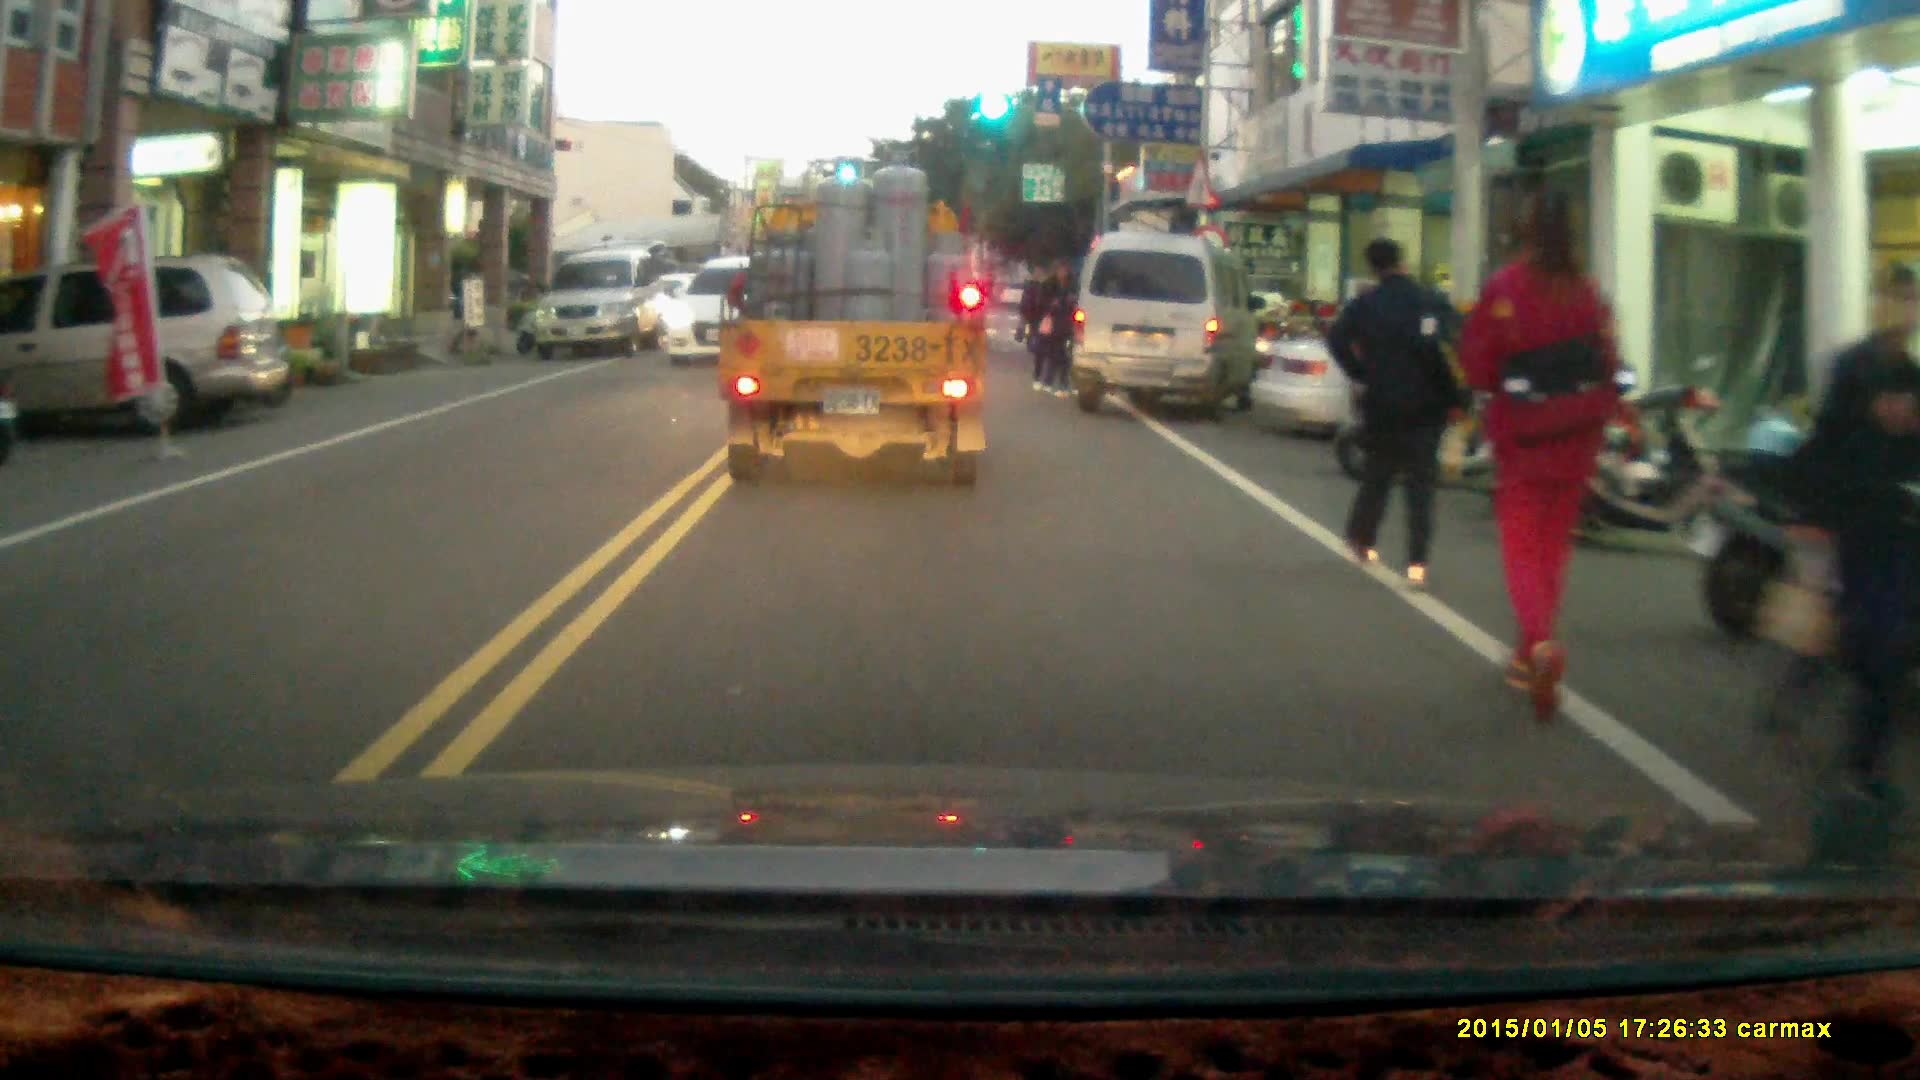pedestrian: (1753, 261, 1920, 819), (1458, 178, 1624, 723), (1321, 232, 1456, 587), (1036, 262, 1075, 400)
vehicle: (719, 173, 994, 502), (1257, 299, 1659, 459), (1, 257, 299, 442), (1074, 225, 1263, 415), (529, 249, 672, 360), (656, 251, 793, 366)
